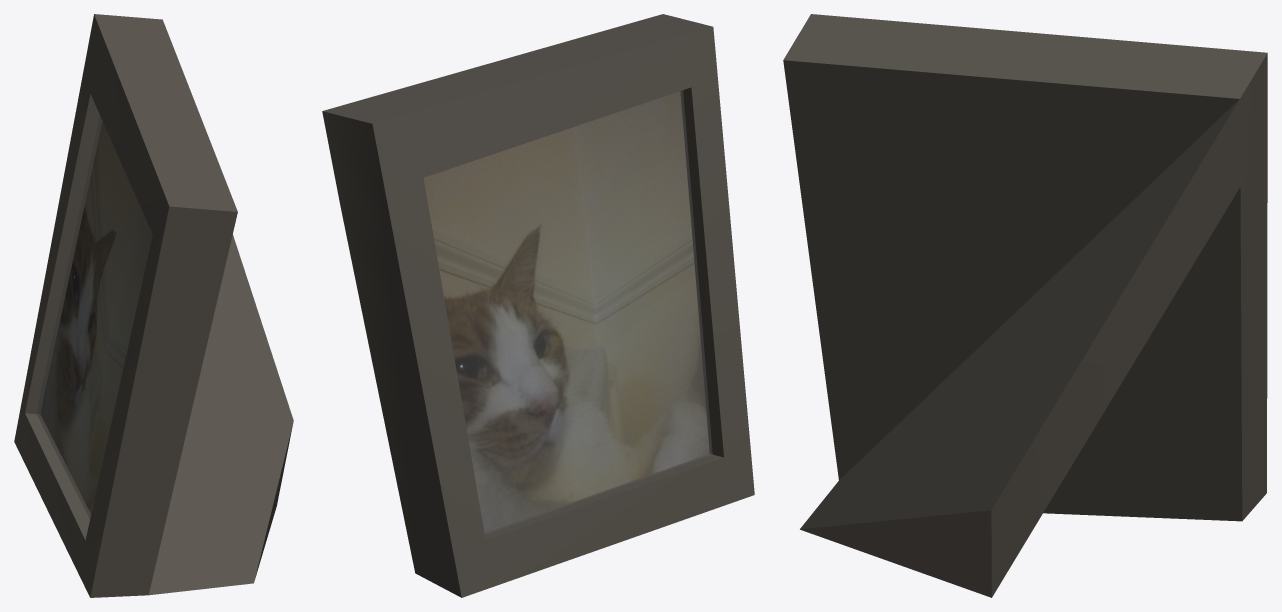
Rendered from Photo Frame 03.fbx.
3 renders of one model, left to right at view 1: azimuth 30°, elevation 25°; view 2: azimuth 150°, elevation 25°; view 3: azimuth 270°, elevation 25°, orthographic. The views are drawn at different scales.
Visible parts, largest first — view 1: pCube5, pPlane2, pPlane1; view 2: pCube5, pPlane2, pPlane1; view 3: pCube5.
Boxes of the visible parts, left/top/right/bottom form: pCube5: left=14, top=14, right=293, bottom=597; pPlane2: left=37, top=116, right=152, bottom=518; pPlane1: left=40, top=122, right=152, bottom=513; pCube5: left=322, top=14, right=754, bottom=597; pPlane2: left=424, top=90, right=712, bottom=534; pPlane1: left=423, top=91, right=709, bottom=532; pCube5: left=783, top=14, right=1267, bottom=597.
Size of the model in its own units: 0.4952 by 0.7828 by 0.6741.
Materials: 3 (1 with a texture image).
